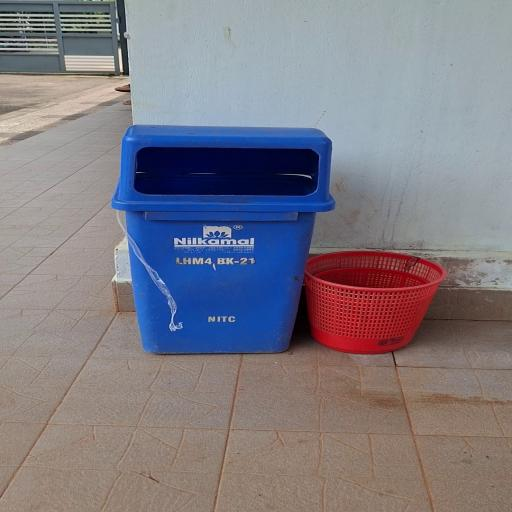Nilkamal-dustbin-detection: (112, 125, 333, 353)
